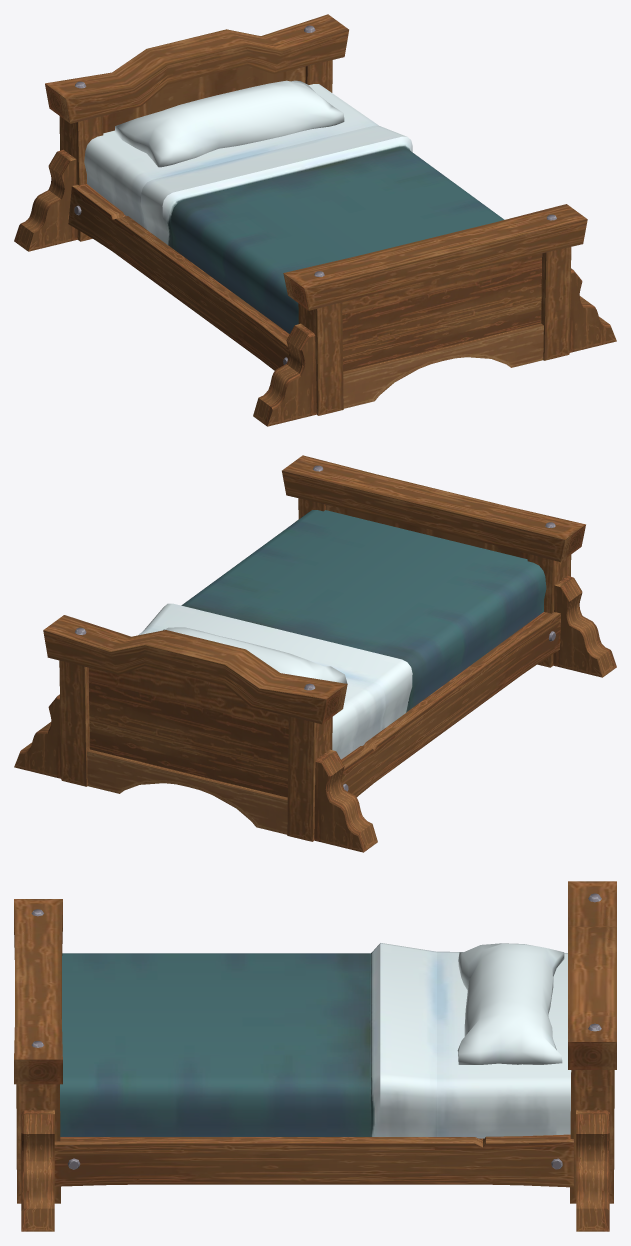
File: Bed_Twin1.glb
3 renders of one model, top to bottom at view 1: azimuth 30°, elevation 25°; view 2: azimuth 150°, elevation 25°; view 3: azimuth 270°, elevation 25°, orthographic. The views are drawn at different scales.
Parts seen in each view (by area): view 1: Bed_Twin1; view 2: Bed_Twin1; view 3: Bed_Twin1.
Part boxes in pixels (bbox=[...]): Bed_Twin1: bbox=[14, 14, 616, 426]; Bed_Twin1: bbox=[14, 455, 616, 852]; Bed_Twin1: bbox=[14, 881, 616, 1231].
Size of the model in its own units: 1.88 by 0.805 by 2.41.
3 materials, 3 textured.
